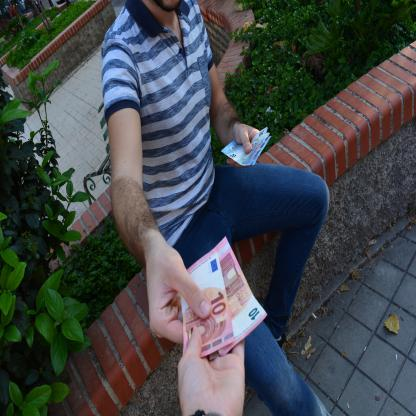billete: (180, 234, 267, 360), (220, 126, 272, 166)
